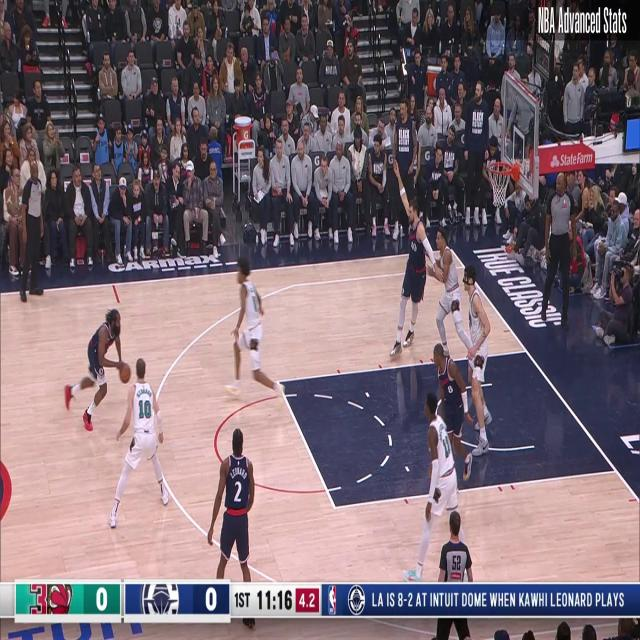ball: (118, 357, 131, 385)
judge: (427, 505, 475, 640), (543, 173, 574, 328), (20, 162, 44, 298)
player: (402, 391, 472, 588), (108, 356, 168, 530), (226, 249, 286, 405), (388, 158, 434, 358), (208, 425, 257, 612), (64, 307, 127, 430), (429, 342, 477, 493), (433, 228, 479, 376), (458, 266, 492, 454)
